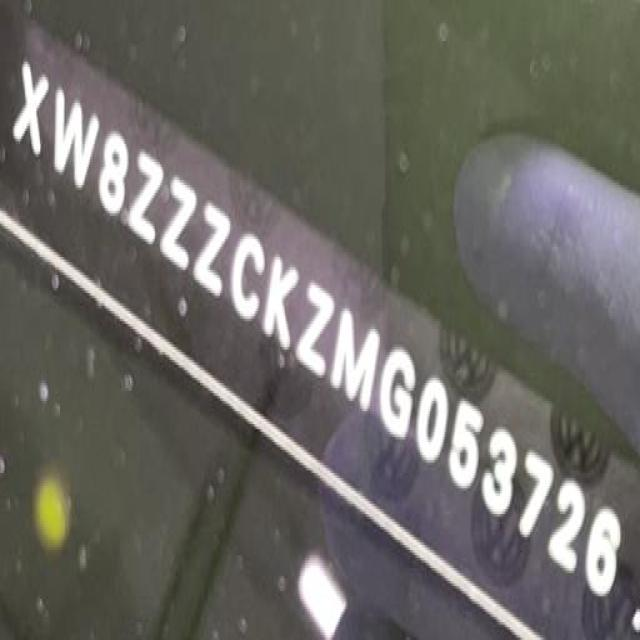0: (415, 376, 451, 459)
2: (550, 474, 586, 576)
3: (479, 428, 519, 516)
5: (448, 391, 482, 489)
6: (586, 500, 620, 601)
7: (516, 450, 552, 536)
8: (97, 124, 125, 222)
C: (229, 231, 267, 321)
G: (381, 341, 415, 439)
K: (262, 255, 300, 352)
M: (332, 309, 378, 409)
W: (50, 89, 97, 191)
X: (15, 60, 47, 162)
Z: (296, 282, 332, 381), (159, 174, 196, 268), (194, 205, 230, 298), (128, 148, 160, 244)
